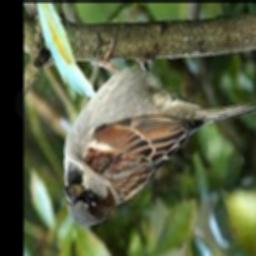Sparrow: (64, 41, 256, 227)
